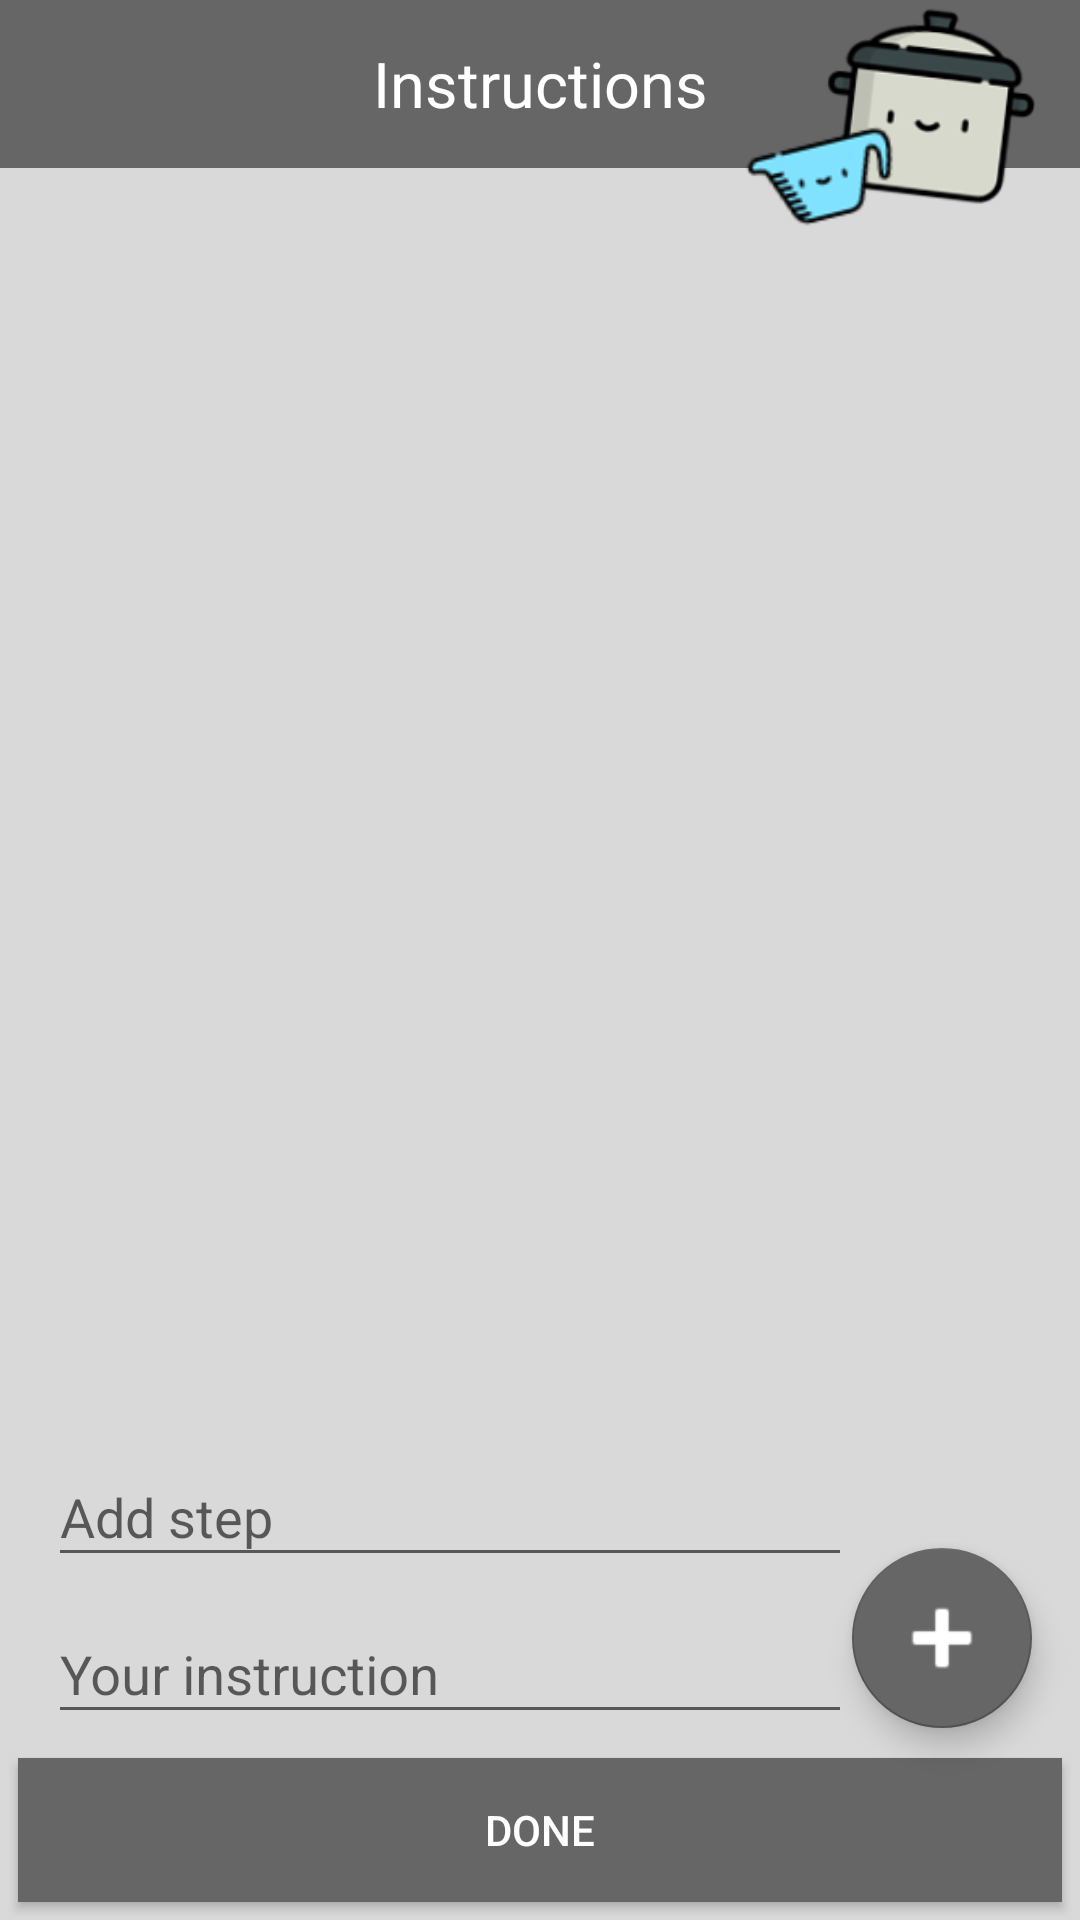

Screen size 1080px x 1920px. Icon name, then its center in pixels as (x,y):
It's a cooking pot: (930,105)
